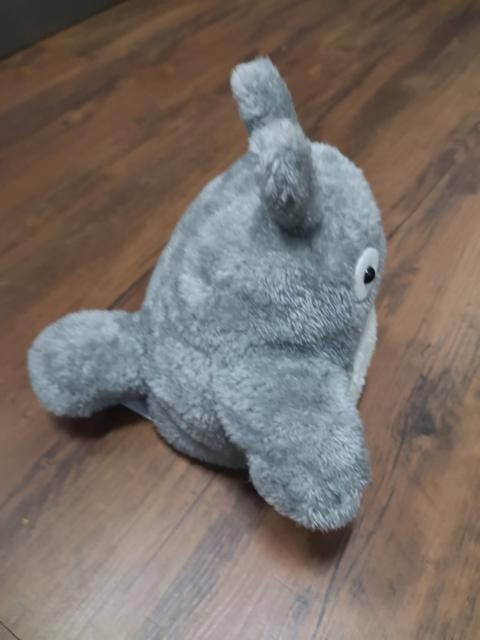totoro: (25, 52, 398, 538)
